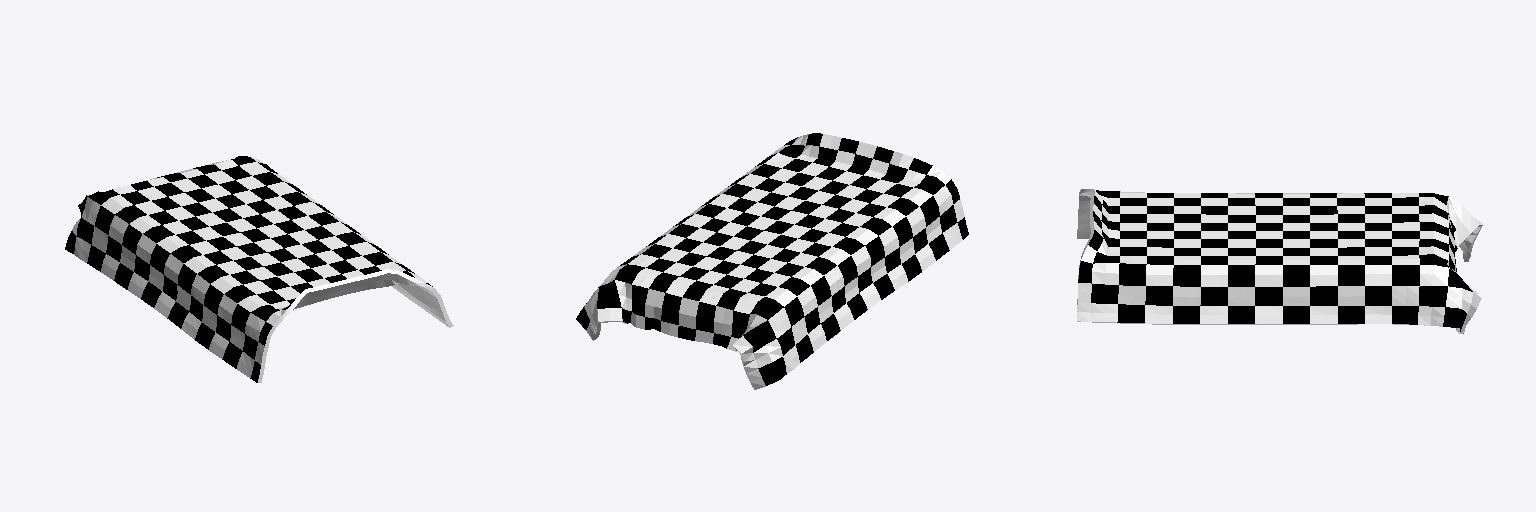
Rendered from Blanket.obj.
3 renders of one model, left to right at view 1: azimuth 30°, elevation 25°; view 2: azimuth 150°, elevation 25°; view 3: azimuth 270°, elevation 25°, orthographic.
Parts seen in each view (by area): view 1: pasted__pPlane2; view 2: pasted__pPlane2; view 3: pasted__pPlane2.
Part boxes in pixels (x1,y1,x2,y2): pasted__pPlane2: (65, 156, 453, 382); pasted__pPlane2: (576, 133, 968, 389); pasted__pPlane2: (1077, 189, 1482, 334).
Size of the model in its own units: 5.08 by 2.17 by 8.76.